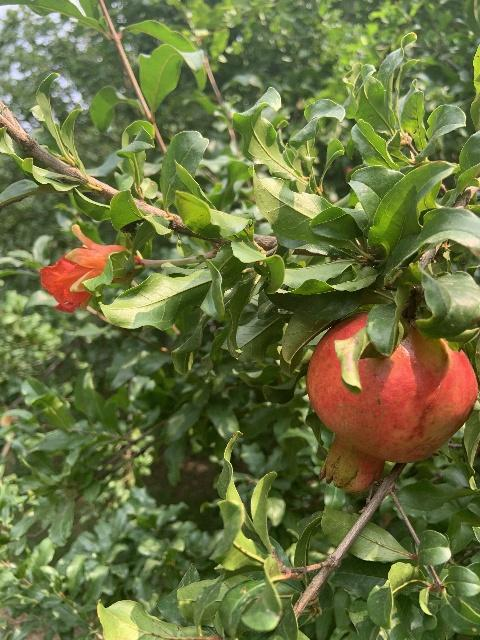flower: (38, 224, 134, 314)
ripe: (305, 311, 477, 493)
